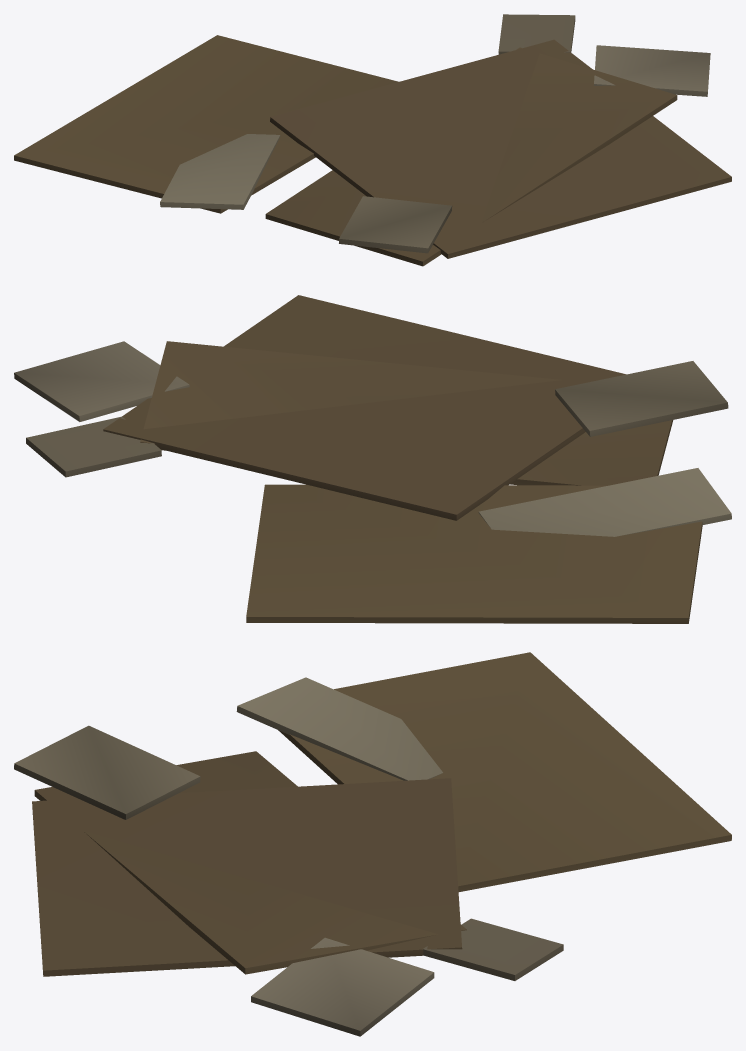
Rendered from carton.glb.
The picture shows the model from 3 angles, top to bottom: view 1: azimuth 30°, elevation 25°; view 2: azimuth 150°, elevation 25°; view 3: azimuth 270°, elevation 25°; orthographic projection. The views are drawn at different scales.
Visible parts, largest first — view 1: carton.001; view 2: carton.001; view 3: carton.001.
Part boxes in pixels (box(x1,y1,x2,y2)): carton.001: box(14, 14, 731, 266); carton.001: box(14, 295, 731, 623); carton.001: box(14, 652, 731, 1036).
Bounding box in the file's own units: 1.06 × 0.0458 × 0.8473.
